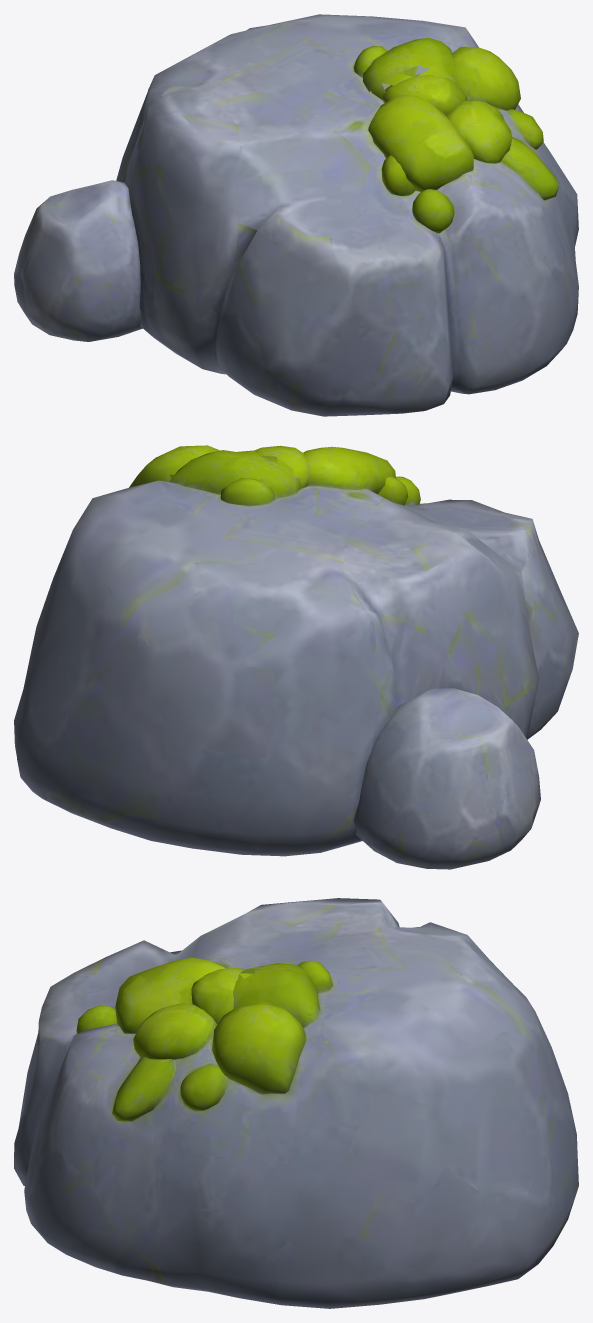
File: rock.glb
The picture shows the model from 3 angles, top to bottom: view 1: azimuth 30°, elevation 25°; view 2: azimuth 150°, elevation 25°; view 3: azimuth 270°, elevation 25°; orthographic projection. The views are drawn at different scales.
Size of the model in its own units: 1 by 0.5489 by 0.9878.
1 material, 1 textured.
